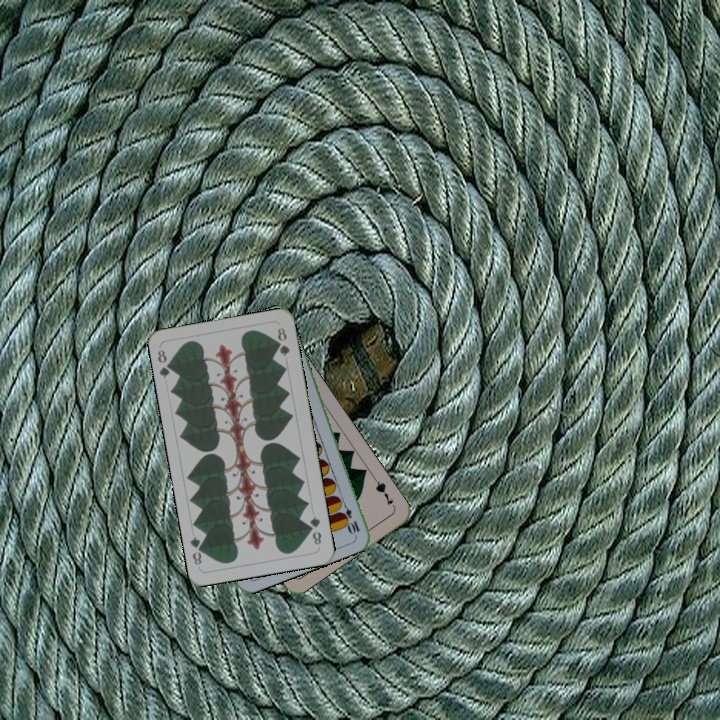E10: (337, 497, 362, 536)
G7: (370, 475, 398, 511)
G8: (153, 346, 176, 381), (305, 512, 324, 547)
